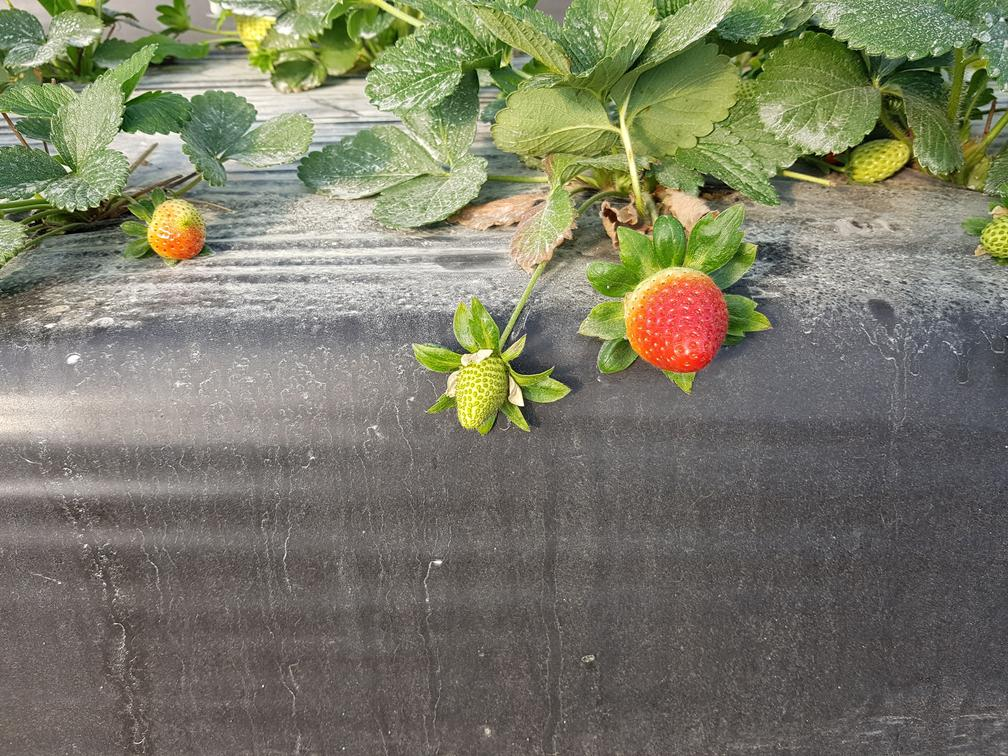Ripe: (616, 258, 735, 378)
Unripe: (449, 347, 516, 435), (145, 194, 212, 262), (850, 138, 911, 185)
